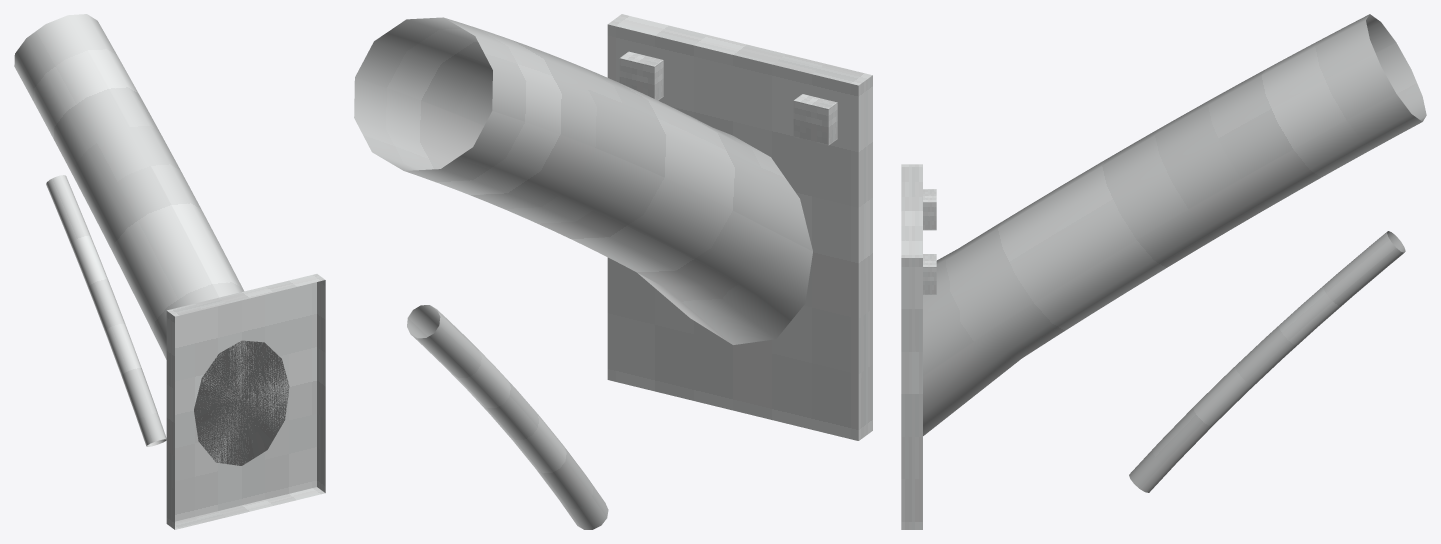
The model's file is luminairearm_laupsweep12ft_c0_wall.obj.
3 renders of one model, left to right at view 1: azimuth 30°, elevation 25°; view 2: azimuth 150°, elevation 25°; view 3: azimuth 270°, elevation 25°, orthographic. The views are drawn at different scales.
Visible parts, largest first — view 1: luminairearm_laupsweep12ft_c0_wall; view 2: luminairearm_laupsweep12ft_c0_wall; view 3: luminairearm_laupsweep12ft_c0_wall.
Boxes of the visible parts, box(x1,y1,x2,y2) form: luminairearm_laupsweep12ft_c0_wall: box(14, 14, 325, 529); luminairearm_laupsweep12ft_c0_wall: box(354, 14, 872, 529); luminairearm_laupsweep12ft_c0_wall: box(901, 14, 1426, 529).
Bounding box in the file's own units: 0.4476 × 1.05 × 1.06.
